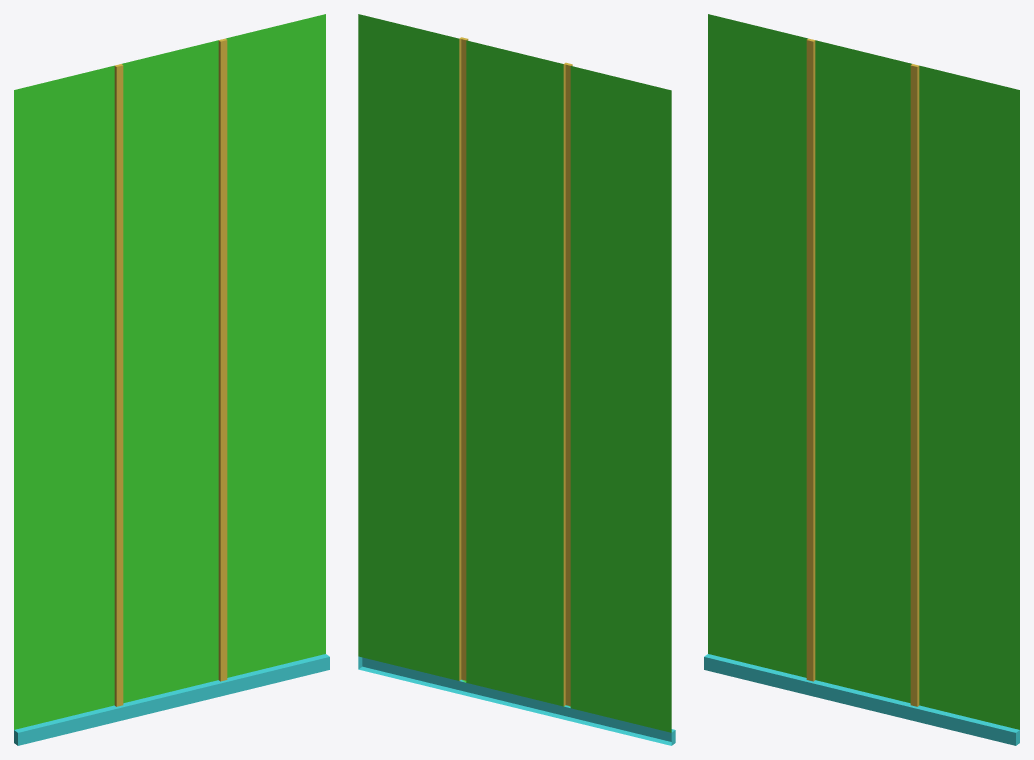
File: Wall_50_A.fbx
The picture shows the model from 3 angles, left to right: view 1: azimuth 30°, elevation 25°; view 2: azimuth 150°, elevation 25°; view 3: azimuth 330°, elevation 25°; orthographic projection.
Parts seen in each view (by area): view 1: Wall_50_A; view 2: Wall_50_A; view 3: Wall_50_A.
Part boxes in pixels (bbox=[...]): Wall_50_A: bbox=[14, 14, 329, 745]; Wall_50_A: bbox=[358, 14, 675, 745]; Wall_50_A: bbox=[704, 14, 1019, 745].
Bounding box in the file's own units: 229 × 457 × 5.08.
